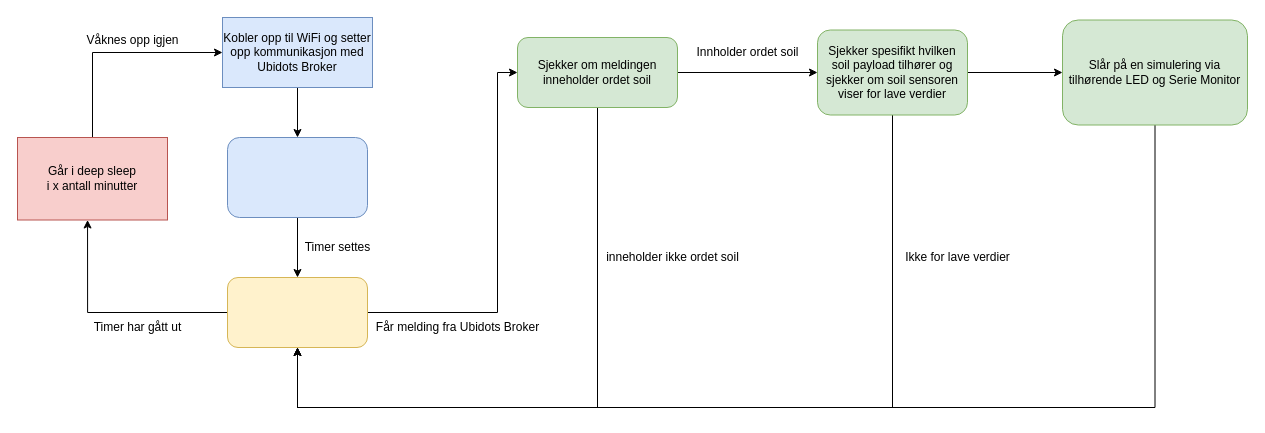
Image size: 1265x433. Some labels were removed from this diagram. The centre of each missing label's shape, as x and y in pixels:
Subscriber til Soil sensorer fra plante node: point (297, 177)
Venter til systemet kan gå i deep sleep: point (297, 312)
